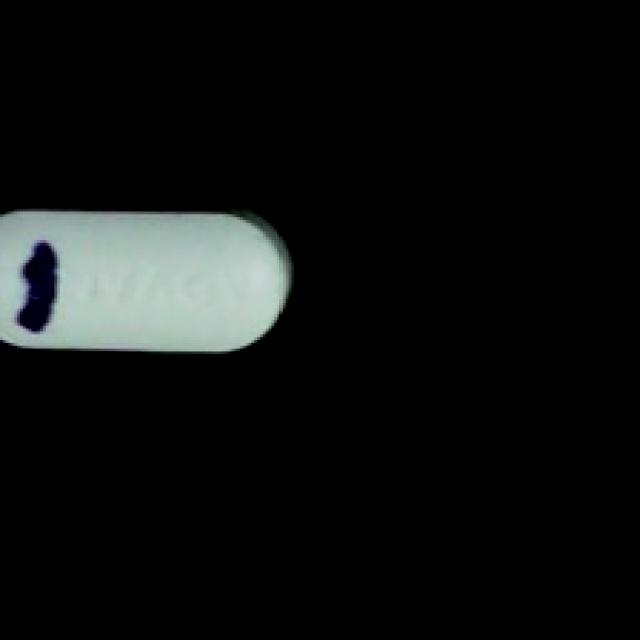defected: (0, 194, 300, 371)
